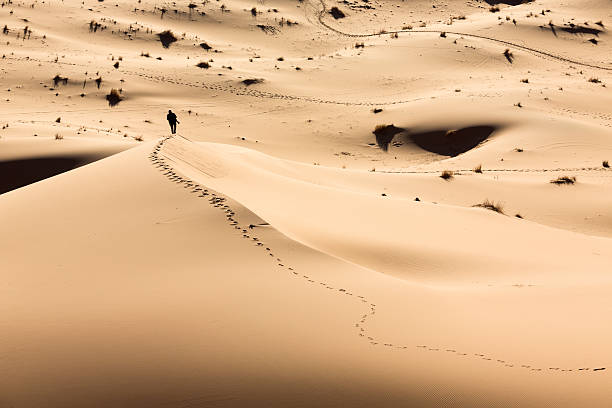animal_footprint: (149, 137, 409, 349)
